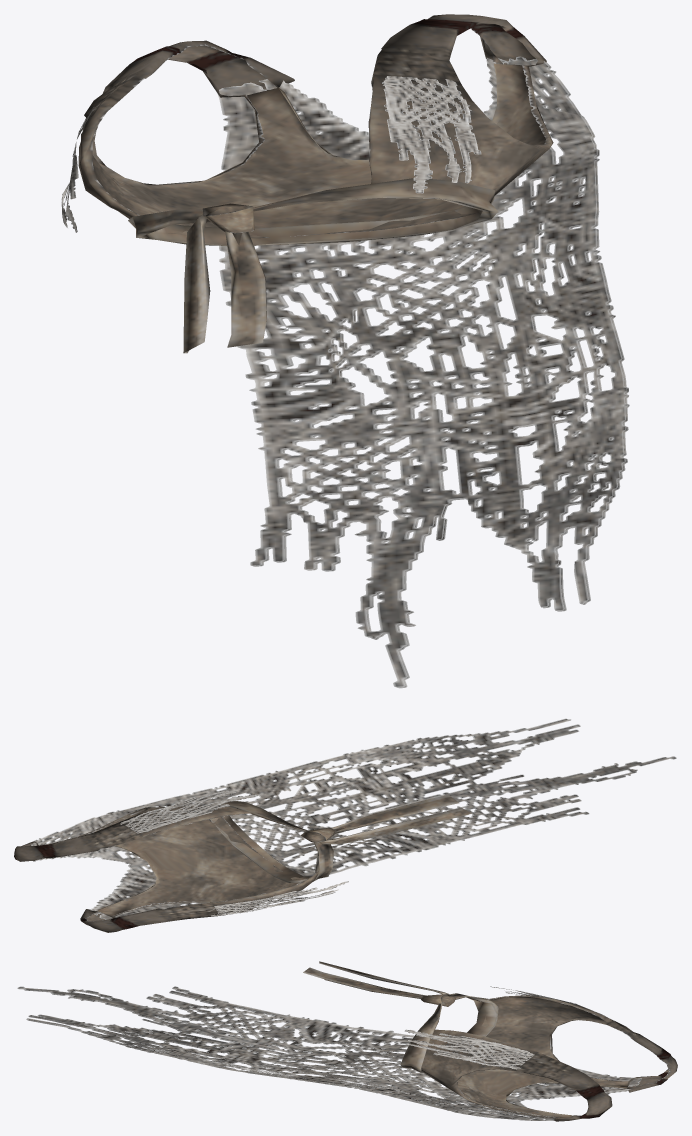
File: OracleBodyCape_Ground.fbx
3 renders of one model, top to bottom at view 1: azimuth 30°, elevation 25°; view 2: azimuth 150°, elevation 25°; view 3: azimuth 270°, elevation 25°, orthographic. The views are drawn at different scales.
Parts seen in each view (by area): view 1: 25_BodyCape_0.3_0_0; view 2: 25_BodyCape_0.3_0_0; view 3: 25_BodyCape_0.3_0_0.
Boxes of the visible parts, x1,y1,x2,y2 form: 25_BodyCape_0.3_0_0: (61,14,629,688); 25_BodyCape_0.3_0_0: (14,718,676,932); 25_BodyCape_0.3_0_0: (17,961,677,1121).
Bounding box in the file's own units: 0.3145 × 0.0507 × 0.5227.
